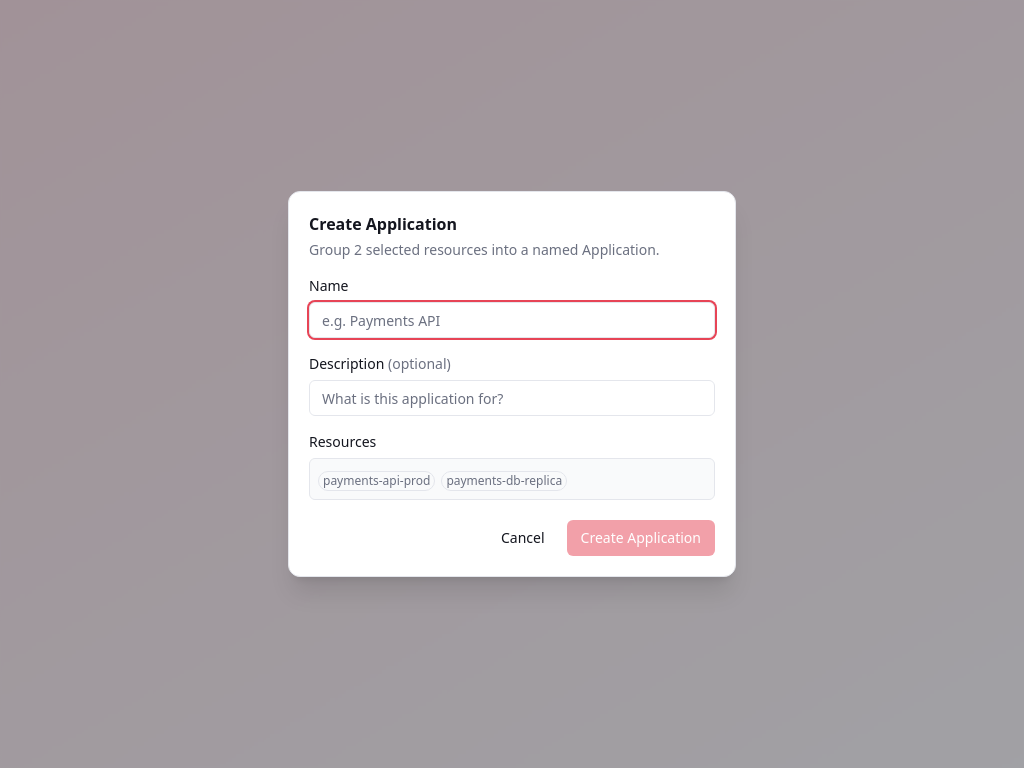
Test: CreateApplicationDialog › disables submit until a name is entered
Expected: the button "Create Application" is disabled, [566,520,715,556]
Type "Payments API" into the field labelled "Name" at (512, 320), box [309,302,715,338]
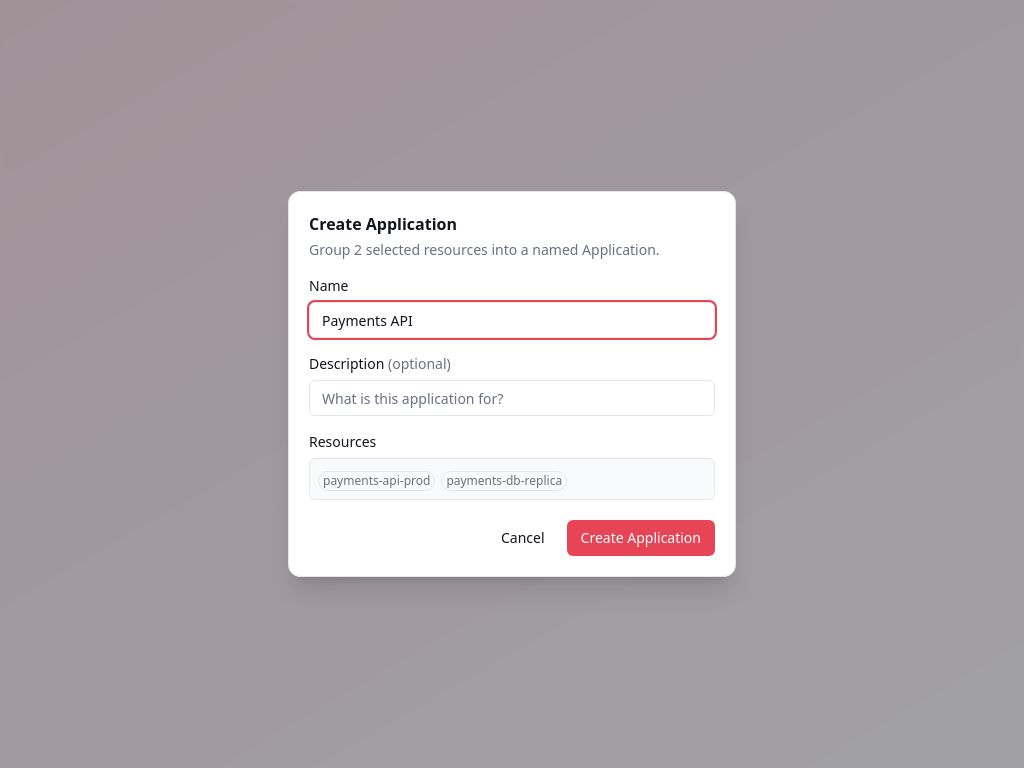
Result: the button "Create Application" is enabled at [566,520,715,556]
